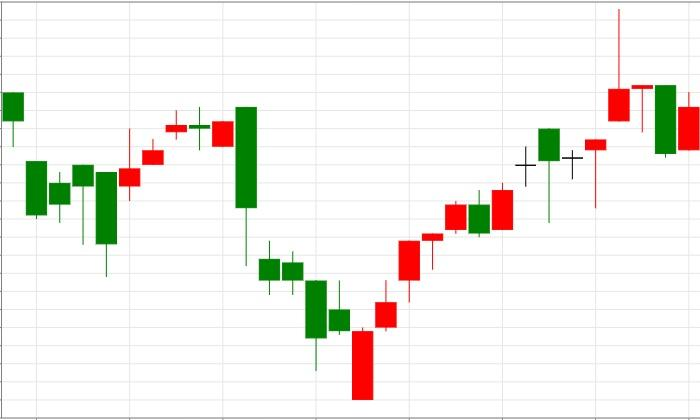bearish_engulfing_fall: (95, 106, 257, 277)
hanging_man_fall: (352, 128, 560, 401)
shooting_star_fall: (352, 8, 630, 401)
three_white_soldiers_rise: (235, 107, 419, 400)
